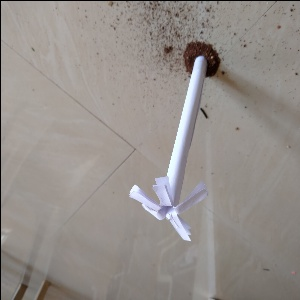weed: (129, 45, 213, 254)
